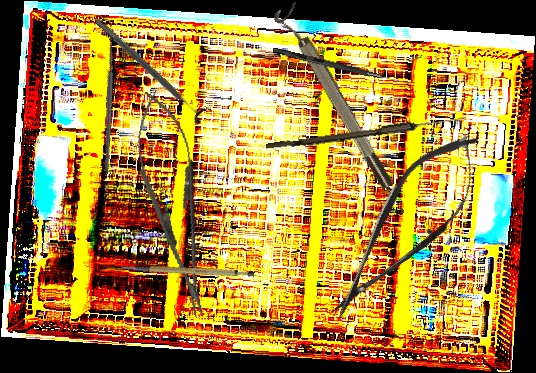Fixation Ring: (271, 1, 397, 196), (88, 11, 214, 127)
Hook Surgical: (34, 16, 178, 175), (271, 47, 410, 86)
Micro Scissor: (308, 116, 503, 338)
Needle Holder: (123, 85, 225, 323)
Scalpel Handle: (120, 244, 256, 295)
Surgical Spoon: (265, 112, 467, 154)
